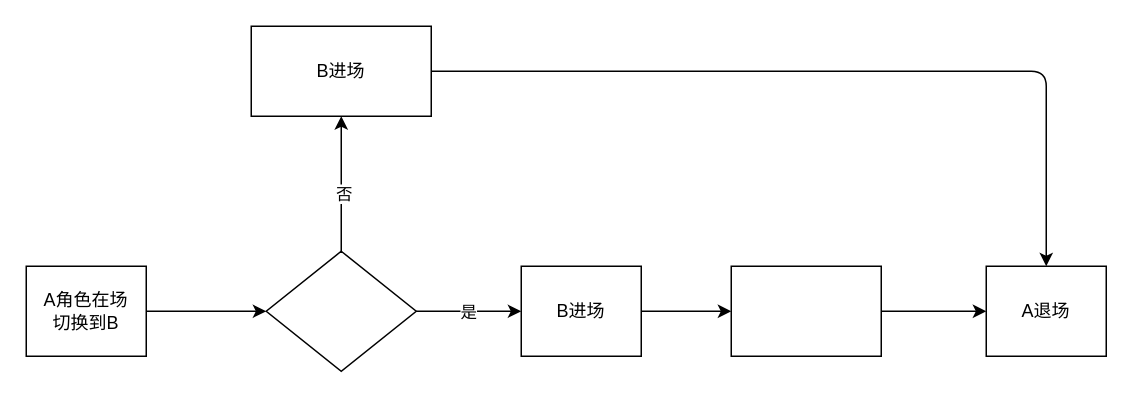
This 1133x398 diagram has some shape labels left out. Here are the shapes that lost their labels. From the top down, the centre of each, then its label:
pixel 340 310: A是否正在 执行动作？
pixel 805 310: A继续执行完动作
